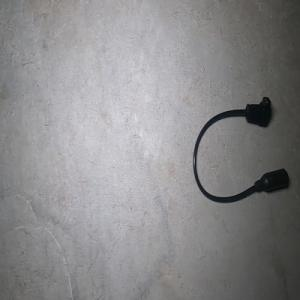Wire: (192, 96, 289, 203)
